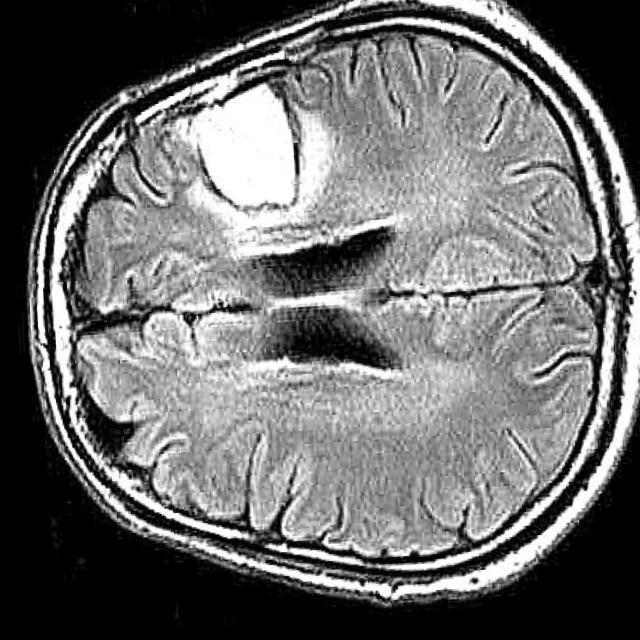Tumor: (180, 86, 294, 210)
